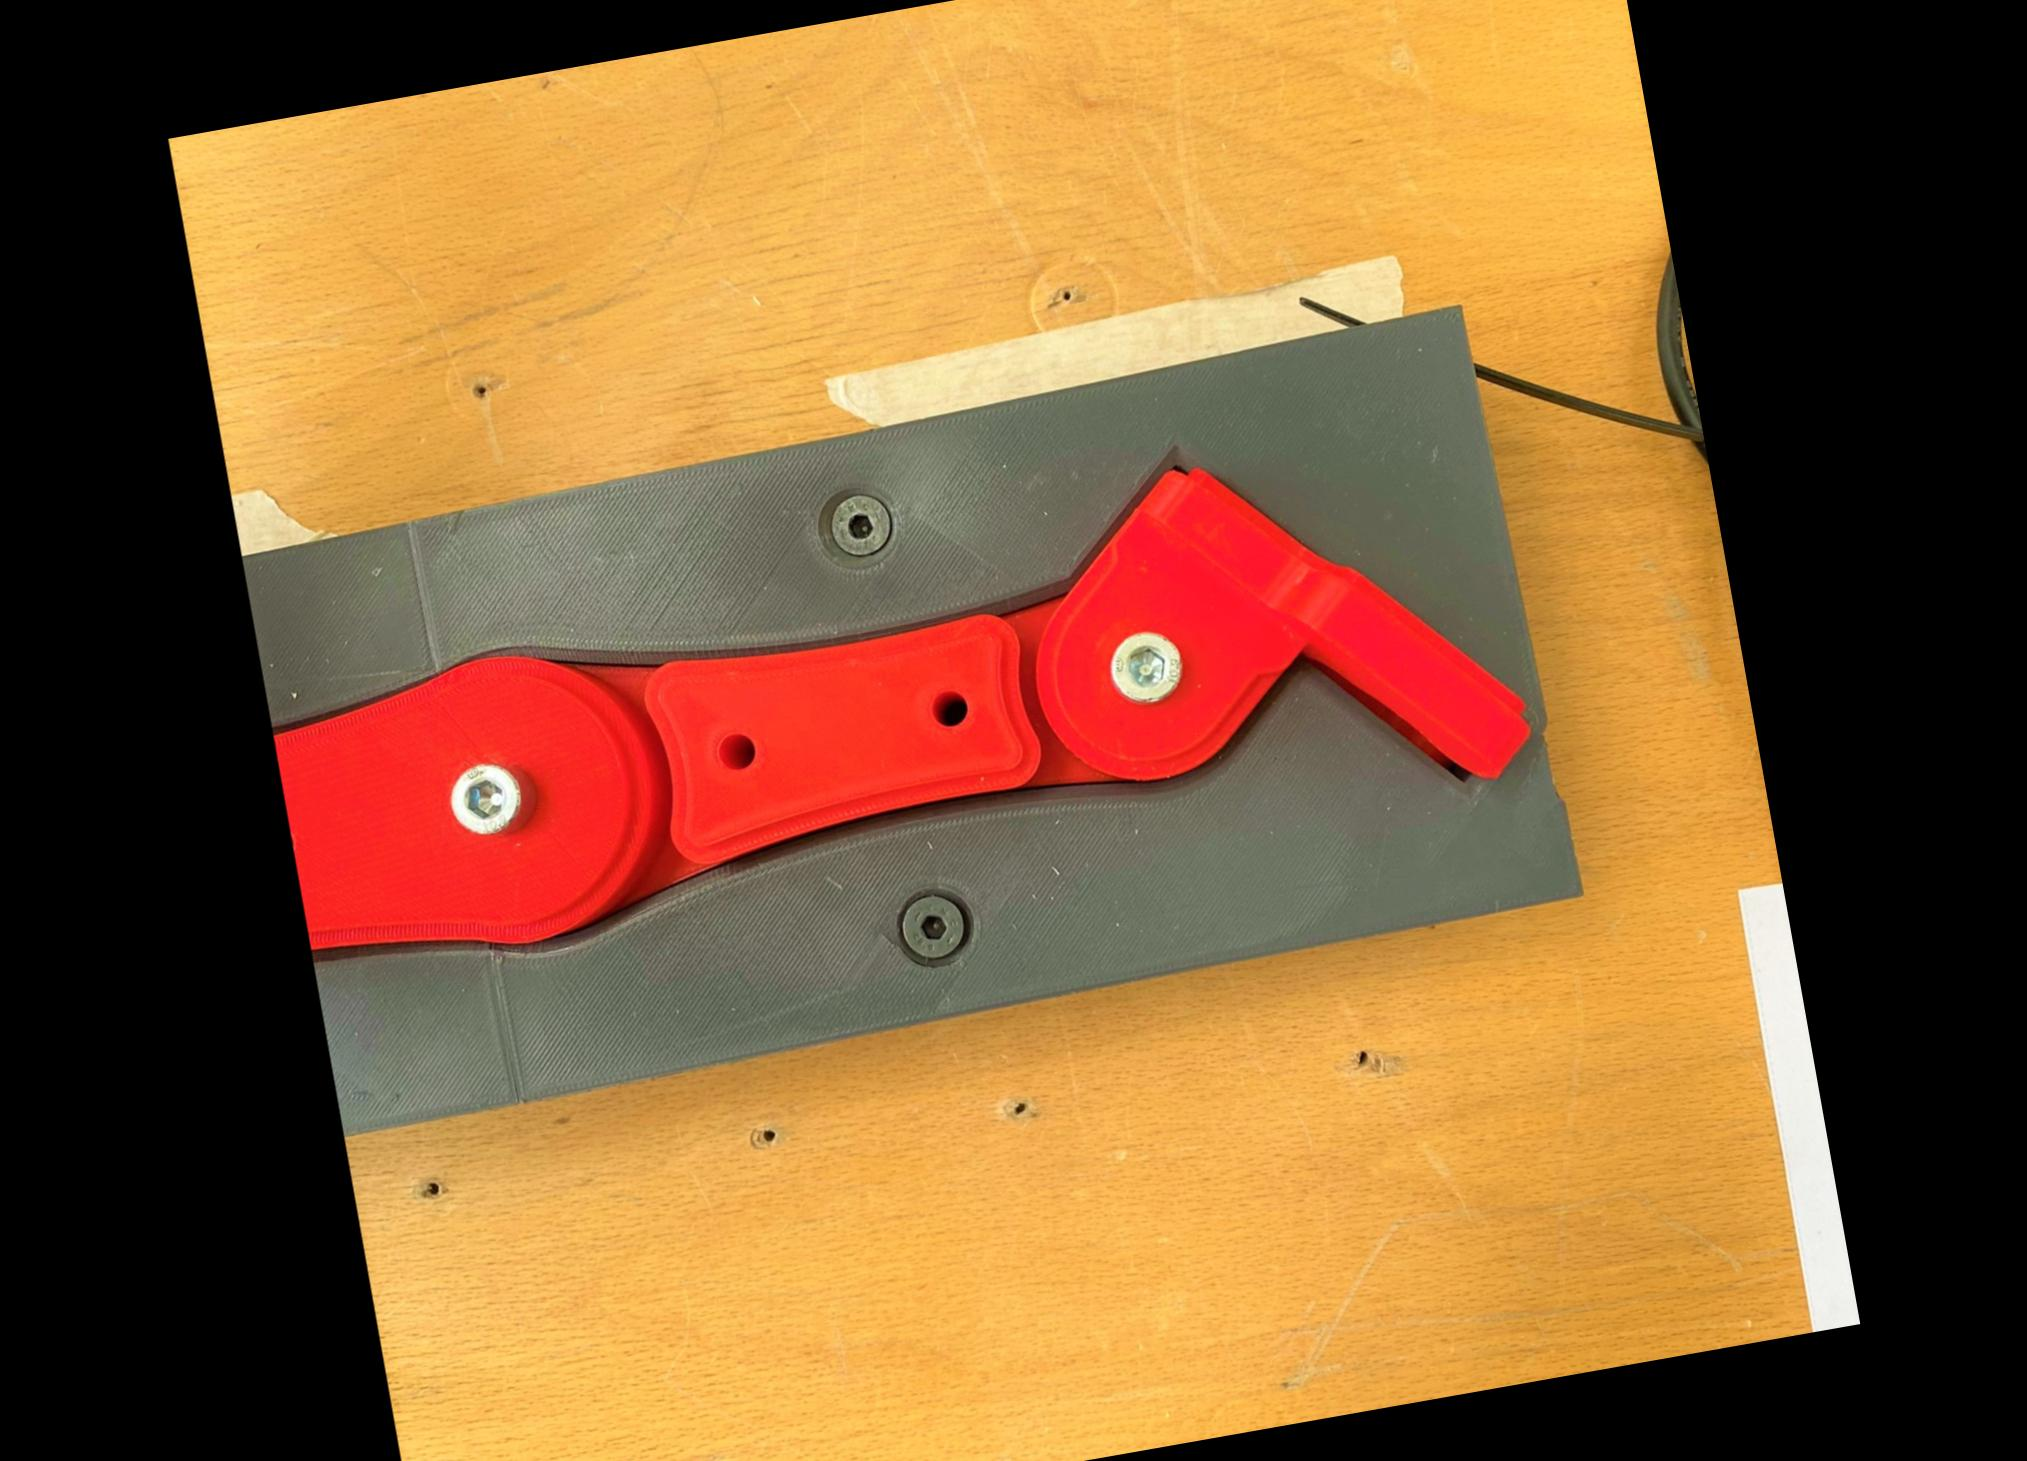H: (1103, 627, 1185, 707), (445, 759, 522, 839), (825, 486, 895, 562), (895, 891, 971, 962)
